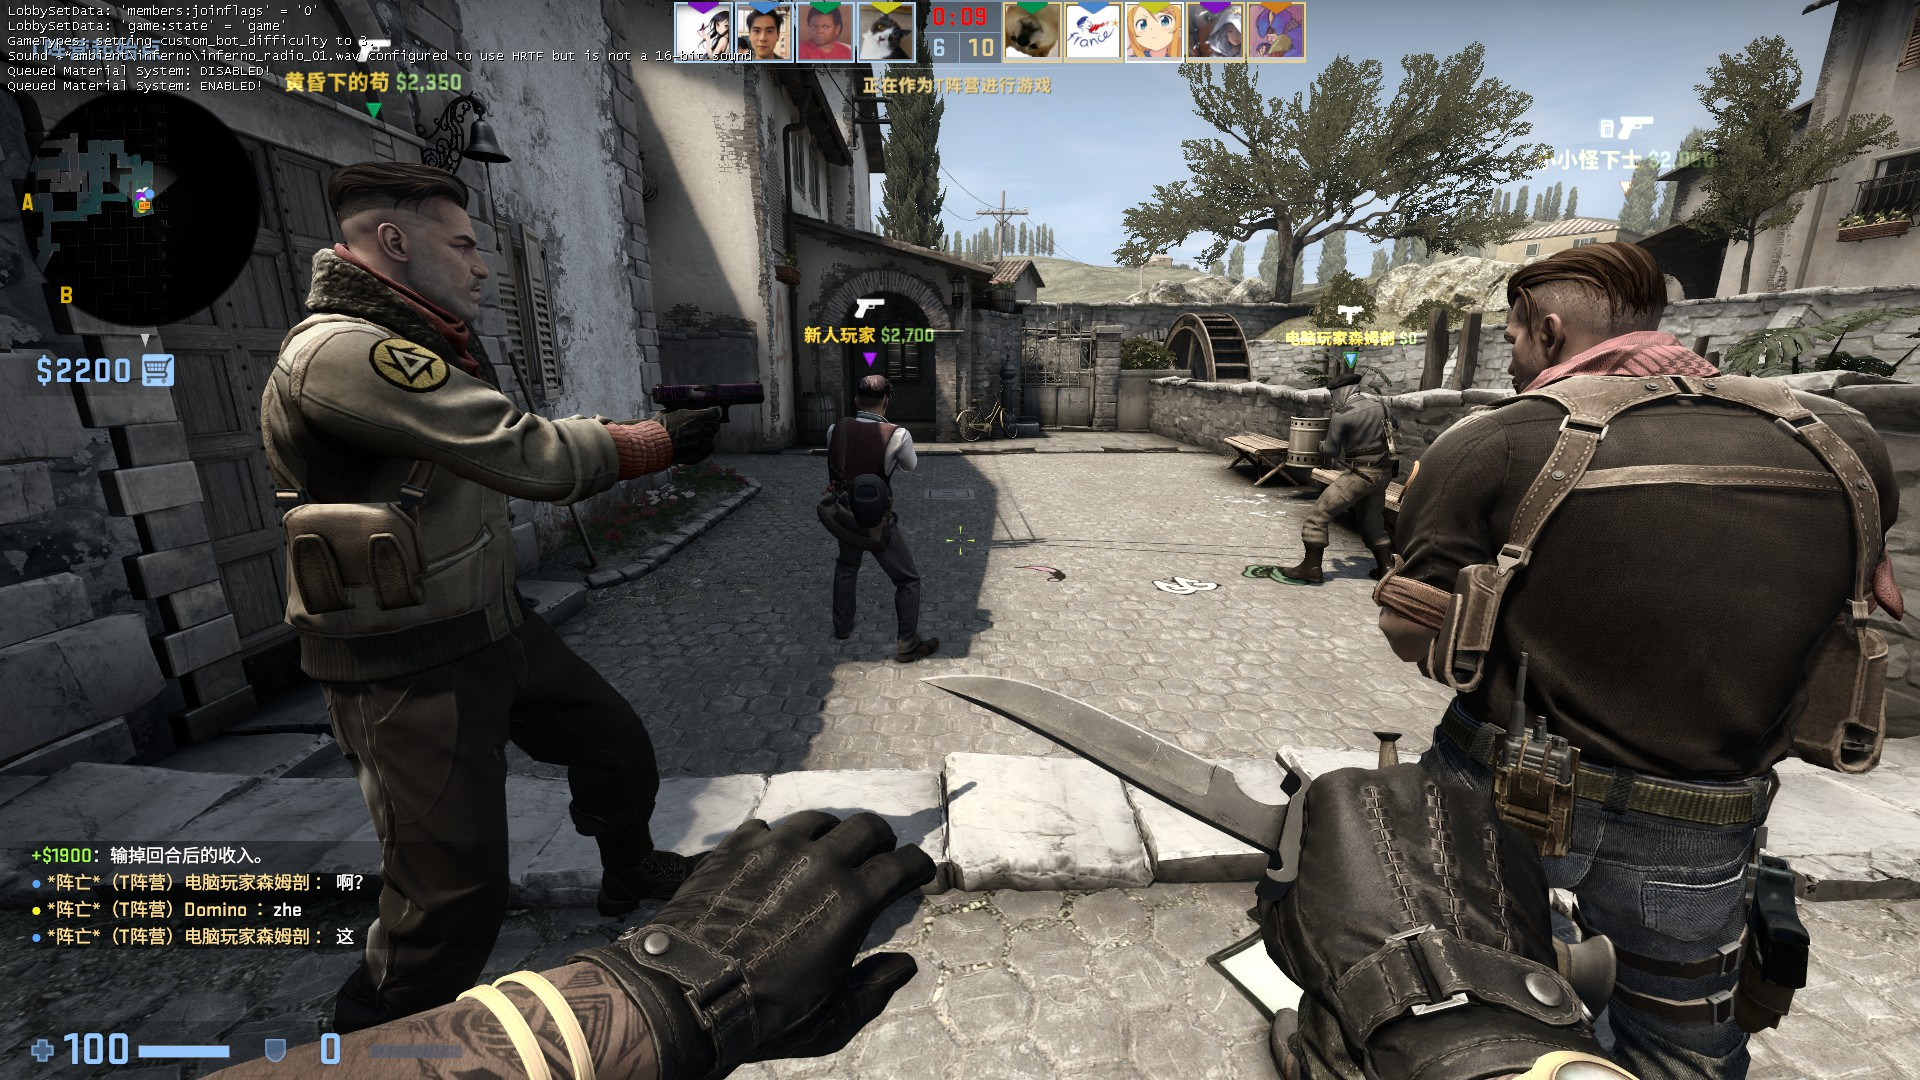head: (323, 158, 486, 323), (1505, 236, 1670, 396), (854, 373, 890, 416), (1325, 372, 1362, 409)
